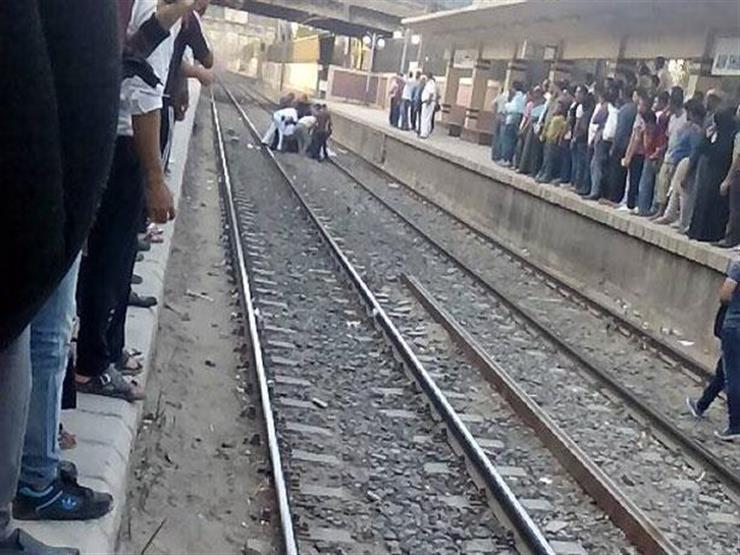person: (683, 246, 740, 445), (691, 88, 737, 242), (635, 109, 664, 215), (610, 84, 633, 209), (541, 98, 567, 186), (504, 79, 527, 172), (417, 71, 439, 140), (311, 100, 327, 162), (400, 70, 416, 131), (387, 69, 401, 129)
